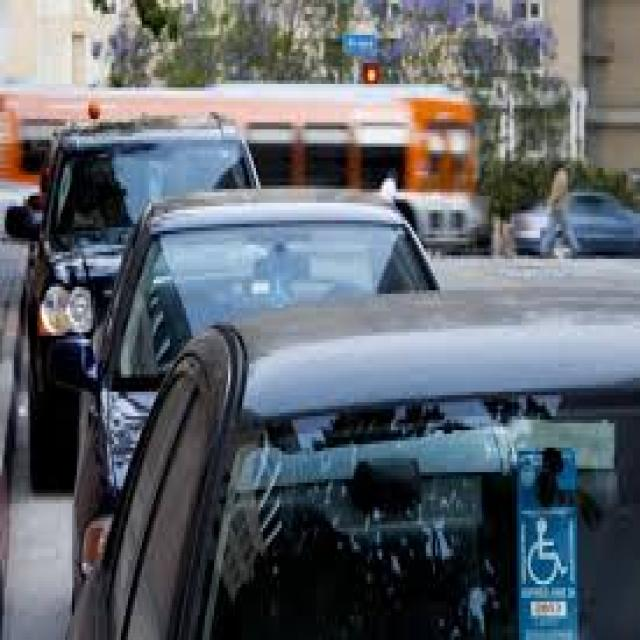car-handicap-placard: (528, 516, 567, 584)
